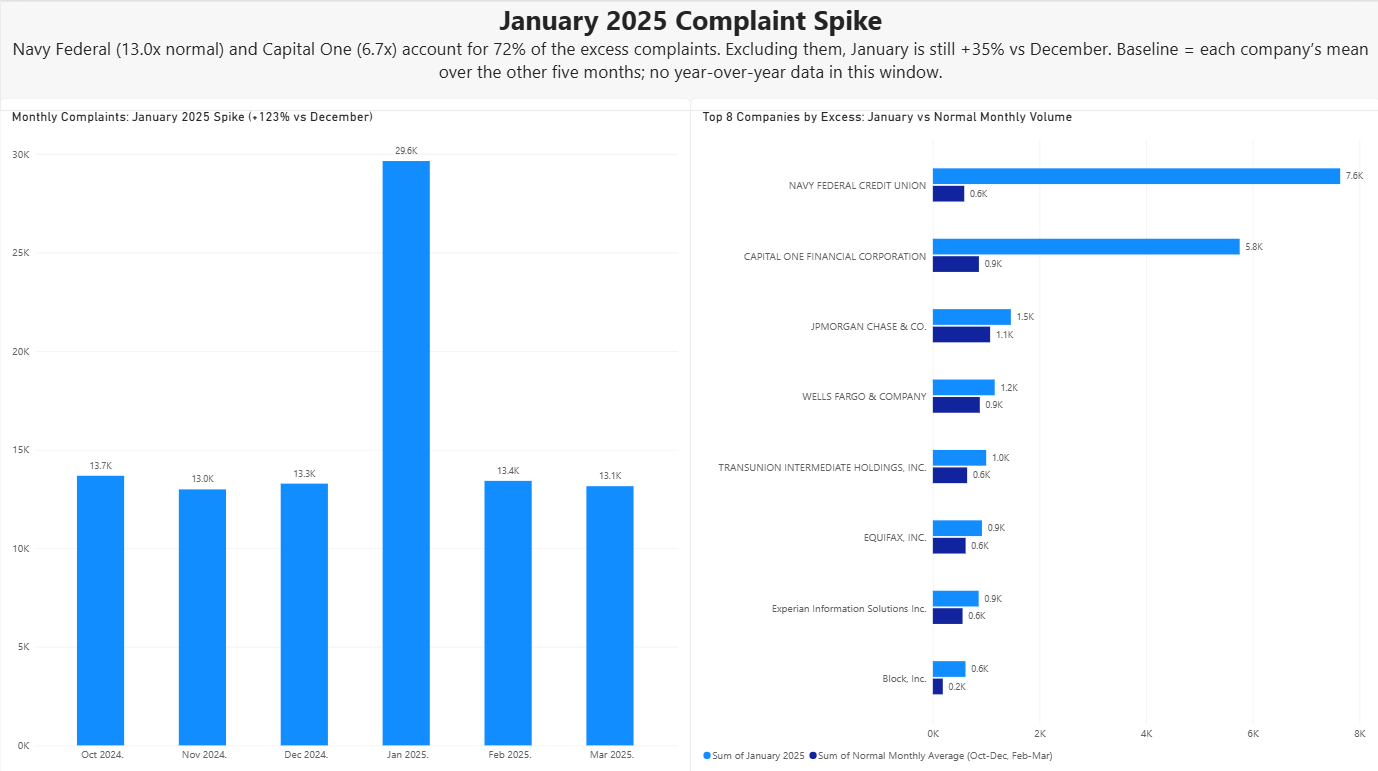

Layout of this report page (visuals, bound fields, positions):
{"tool":"powerbi","page":{"name":"January Complaint Spike","canvas":[1920,1080],"ordinal":1},"visuals":[{"type":"clusteredColumnChart","title":"Monthly Complaints: January 2025 Spike (+123% vs December)","fields":{"Category":["monthly_complaints.month"],"Y":["Sum(monthly_complaints.complaints)"]},"box":[0,135,960,945],"z":0},{"type":"clusteredBarChart","title":"Top 8 Companies by Excess: January vs Normal Monthly Volume","fields":{"Category":["company_spike_baseline.company"],"Y":["Sum(company_spike_baseline.january_complaints)","Sum(company_spike_baseline.baseline_monthly_mean)"]},"box":[960,135,960,945],"z":1},{"type":"textbox","box":[0,0,1920,152.5],"z":2}]}

Visuals, with their boxes in screenshot pixels (x1, y1, x2, y2), scaled from the page's 1920x1080 canvas onto the 1378x771 screenshot:
"Monthly Complaints: January 2025 Spike (+123% vs December)" clusteredColumnChart: [left=0, top=96, right=689, bottom=770]
"Top 8 Companies by Excess: January vs Normal Monthly Volume" clusteredBarChart: [left=689, top=96, right=1377, bottom=770]
textbox: [left=0, top=0, right=1377, bottom=109]
